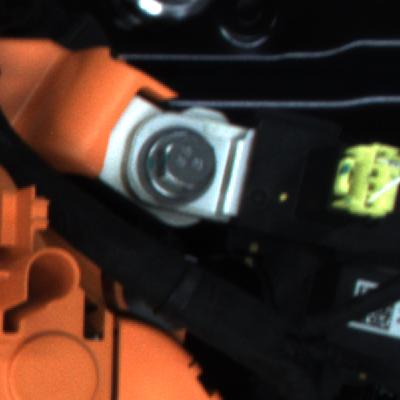nut_b: (134, 127, 228, 212)
